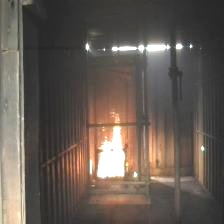fire: (89, 114, 130, 181)
